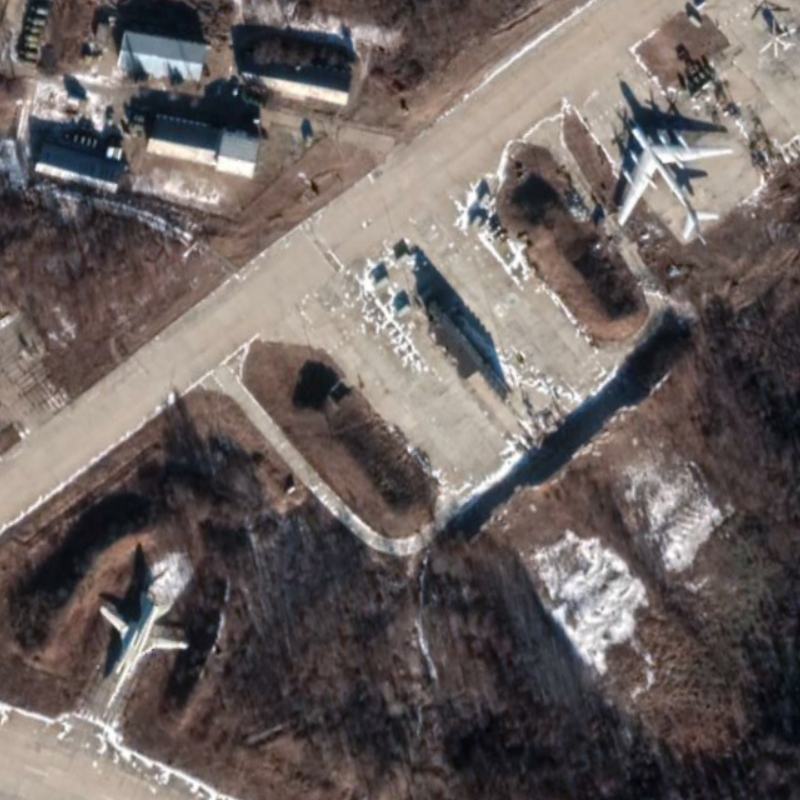A12: (97, 588, 191, 712)
A17: (610, 115, 737, 245)
